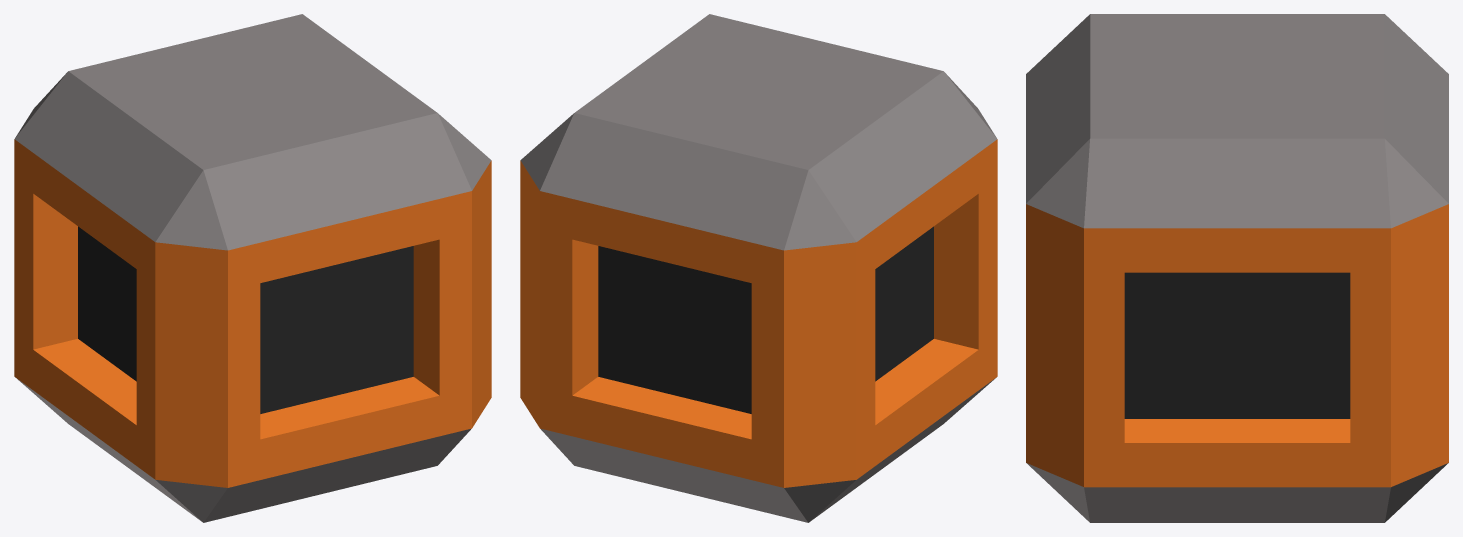
The model's file is belt-moving-connector.glb.
3 views of the same model, side by side, from view 1: azimuth 30°, elevation 25°; view 2: azimuth 150°, elevation 25°; view 3: azimuth 270°, elevation 25° (orthographic). The views are drawn at different scales.
Parts seen in each view (by area): view 1: belt-moving-connector; view 2: belt-moving-connector; view 3: belt-moving-connector.
Part boxes in pixels (left/top/right/bottom): belt-moving-connector: left=14, top=14, right=491, bottom=522; belt-moving-connector: left=520, top=14, right=997, bottom=522; belt-moving-connector: left=1026, top=14, right=1448, bottom=522.
Bounding box in the file's own units: 1.5 × 1.5 × 1.5.
1 material, 1 textured.
